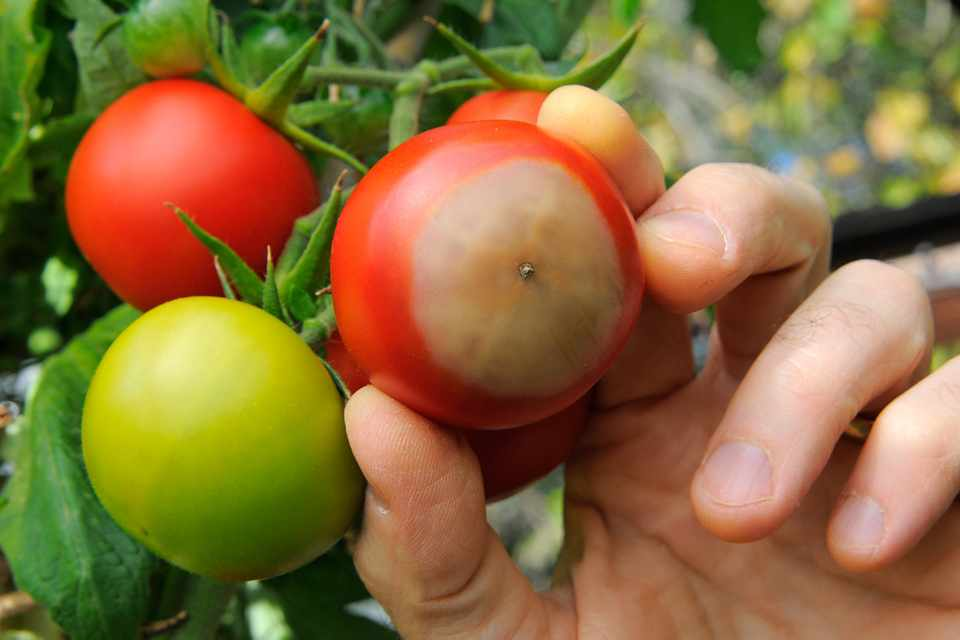blossom_rotw: (406, 146, 643, 401)
